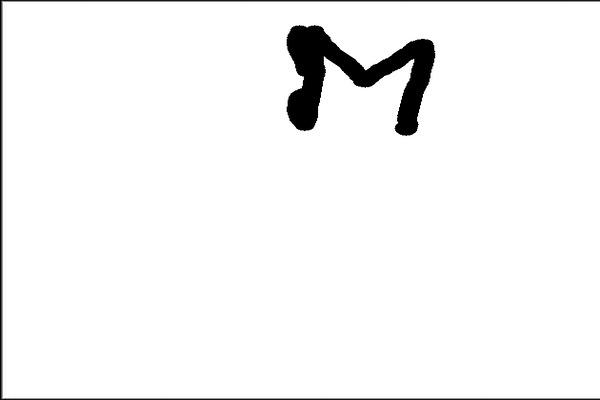M: (283, 23, 439, 141)
